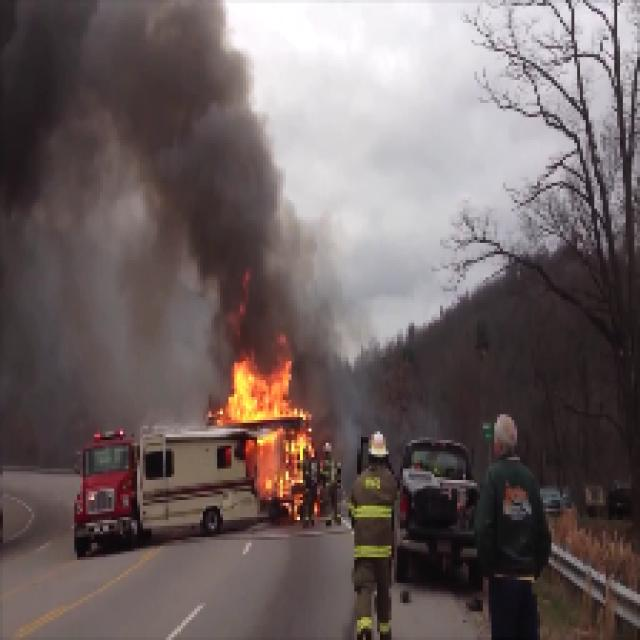fire: (224, 365, 295, 414)
smoke: (104, 18, 246, 183), (4, 12, 103, 172), (196, 193, 290, 358)
